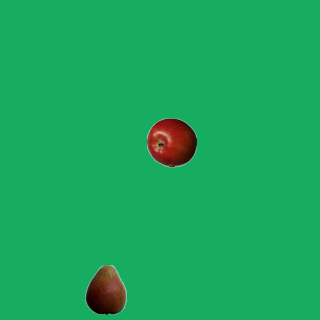Apple Braeburn: (146, 117, 196, 167)
Pear Forelle: (80, 264, 130, 314)
